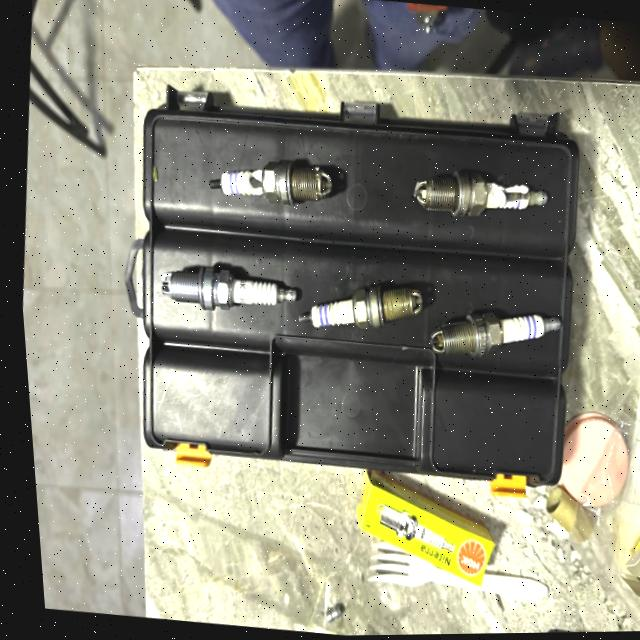damaged_spark-plug: (403, 169, 548, 230), (201, 150, 331, 215)
spark-plug: (285, 272, 421, 347), (154, 251, 298, 319), (424, 299, 559, 369)
